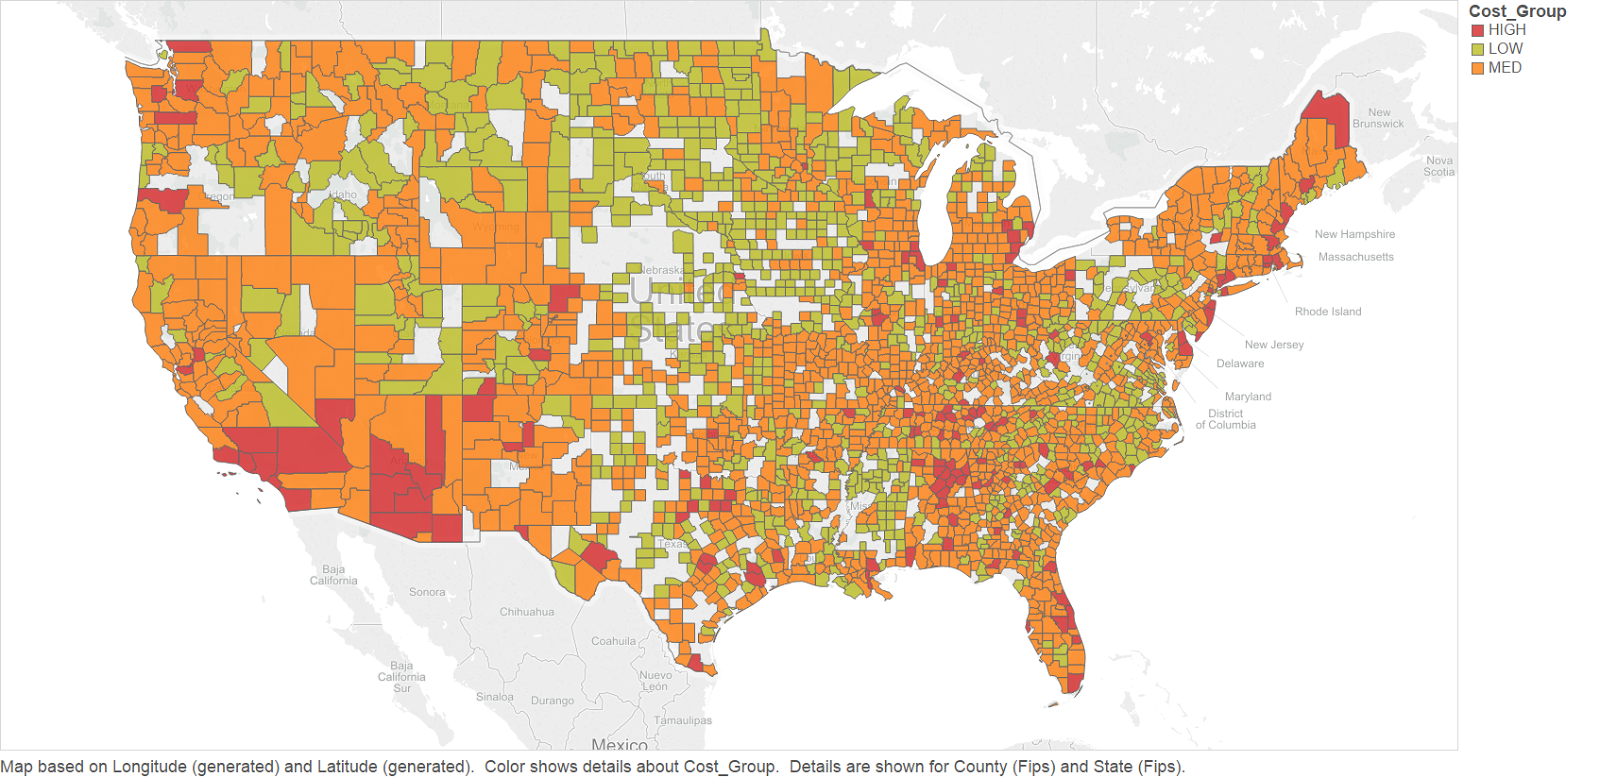

Layout of this report page (visuals, bound fields, positions):
{"tool":"tableau","page":{"name":"Dashboard 1","canvas":[1000,800],"ordinal":0},"visuals":[{"type":"worksheet","title":"Sheet 3","mark":"Multipolygon","box":[0,0,500,800]},{"type":"worksheet","title":"Sheet 5","mark":"Circle","rows":["LATITUDE"],"cols":["LONGITUDE"],"box":[500,0,500,800]}]}

Visuals, with their boxes on the page's 1000x800 design canvas (x1, y1, x2, y2). These are canvas units, not pixel positions in the 1600x778 screenshot, which may show the page scaled, cropped or inside an application window:
"Sheet 3" worksheet (Multipolygon marks): 0 0 500 800
"Sheet 5" worksheet (Circle marks): 500 0 1000 800
